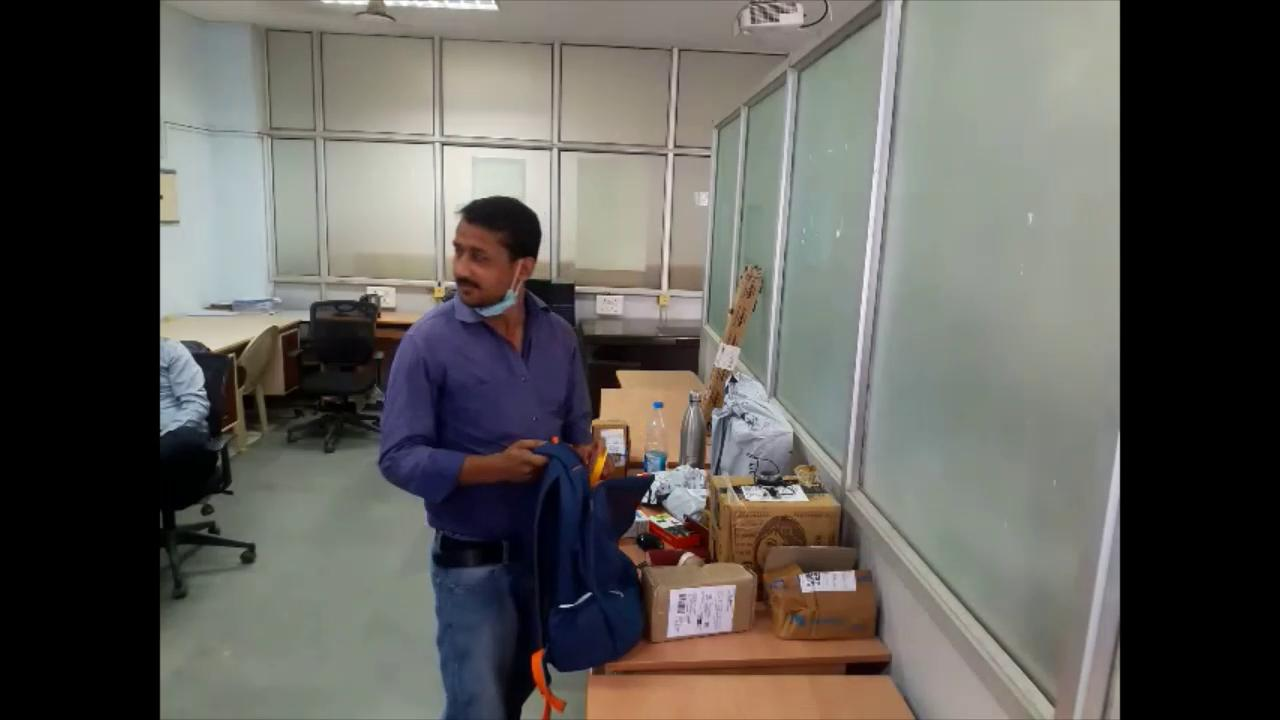shoplifting: (373, 191, 654, 717)
